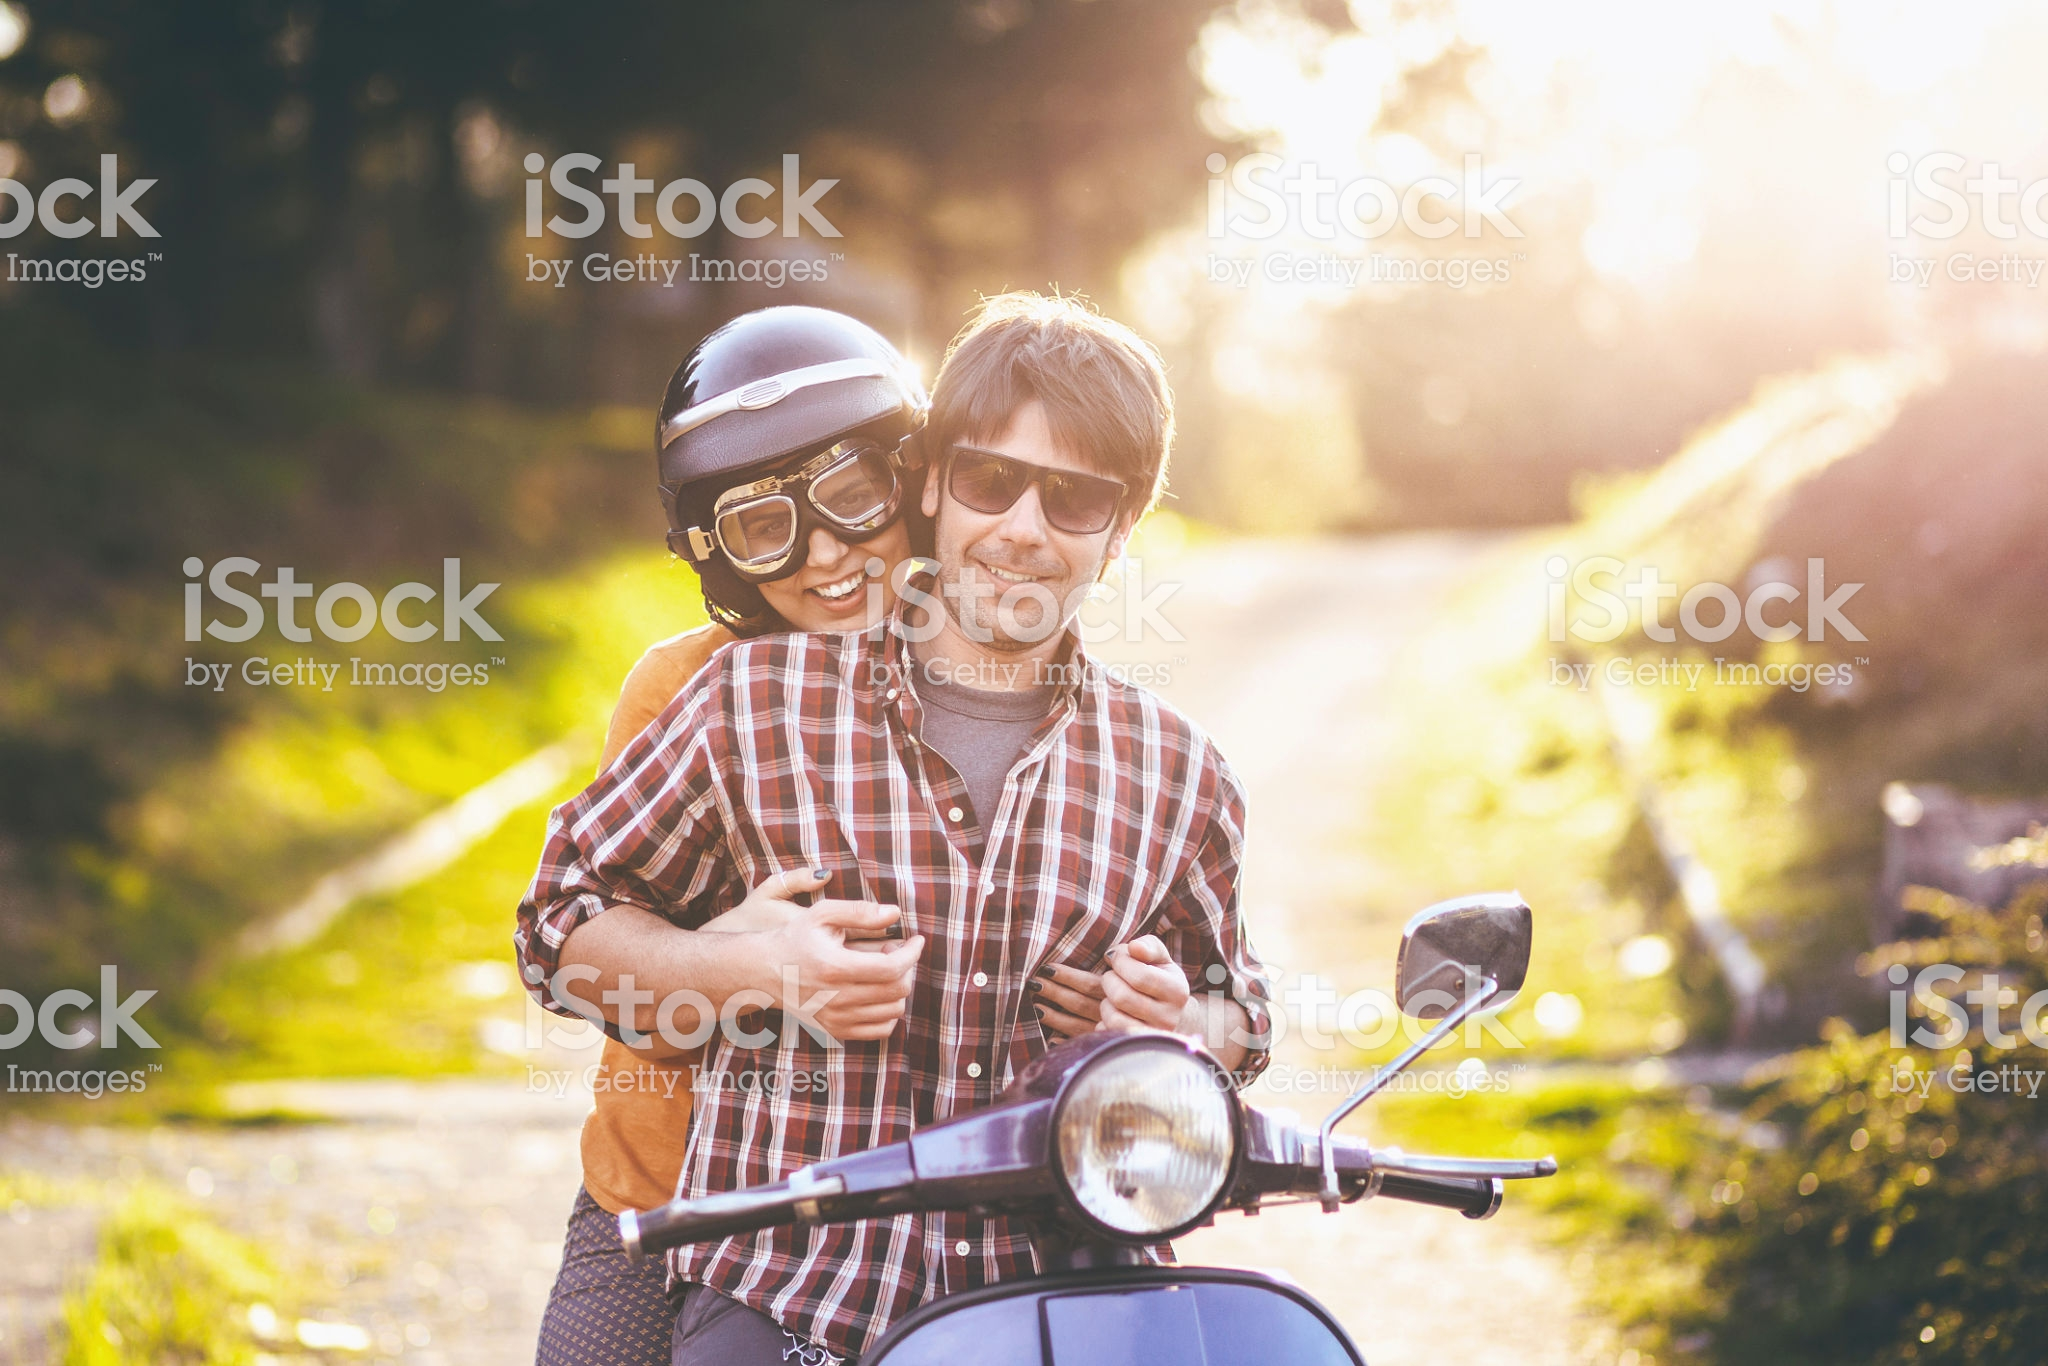helmet: (591, 284, 923, 495)
